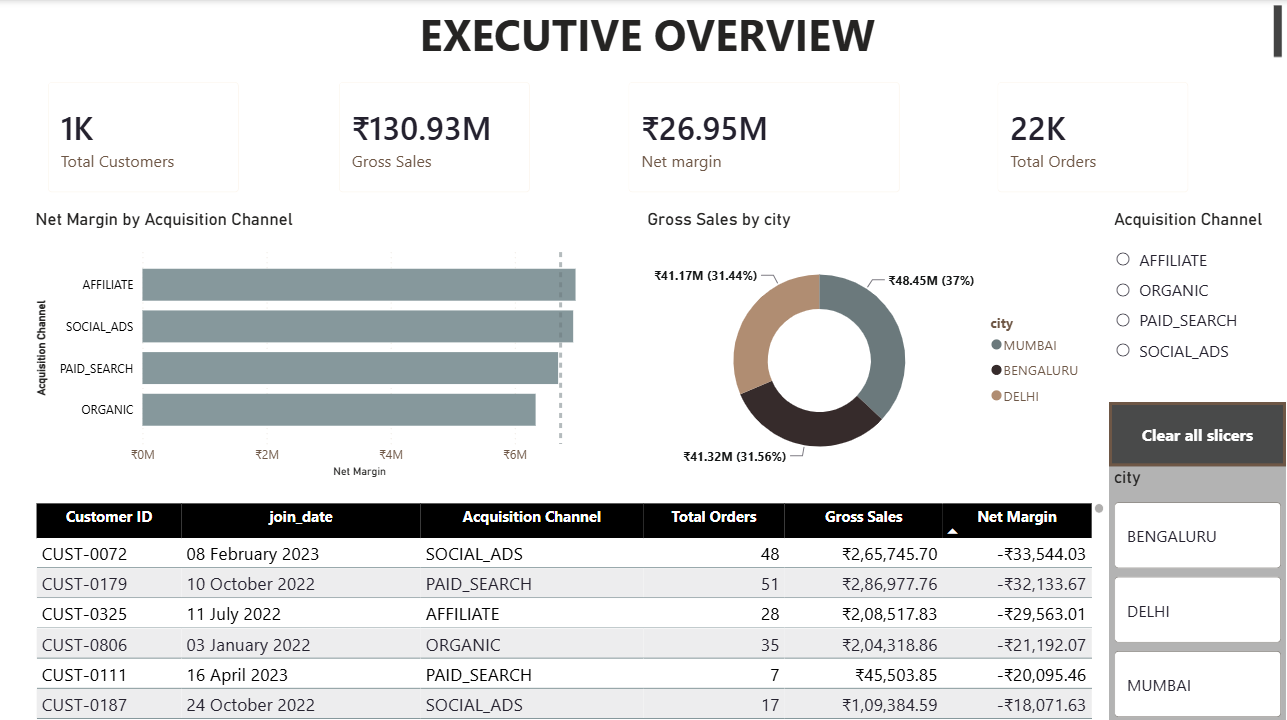

This screenshot's page, from the dashboard's own definition file:
{"tool":"powerbi","page":{"name":"Overview","canvas":[1280,720],"ordinal":0},"visuals":[{"type":"textbox","box":[16,0,1264,64],"z":0},{"type":"cardVisual","fields":{"Data":["Count(mart_customer_360.customer_id)"]},"box":[32,64,224,144],"z":1000},{"type":"cardVisual","fields":{"Data":["Sum(mart_customer_360.gross_sales)"]},"box":[320,64,224,144],"z":2000},{"type":"cardVisual","fields":{"Data":["Sum(mart_customer_360.rounded_true_net_margin)"]},"box":[608,64,304,144],"z":3000},{"type":"cardVisual","fields":{"Data":["Sum(mart_customer_360.total_orders)"]},"box":[976,64,224,144],"z":4000},{"type":"clusteredBarChart","fields":{"Category":["mart_customer_360.acquisition_channel"],"Y":["Sum(mart_customer_360.rounded_true_net_margin)"]},"box":[32,208,560,272],"z":5000},{"type":"donutChart","fields":{"Category":["mart_customer_360.city"],"Y":["Sum(mart_customer_360.gross_sales)"]},"box":[640,208,448,272],"z":6000},{"type":"tableEx","fields":{"Values":["mart_customer_360.customer_id","mart_customer_360.join_date","mart_customer_360.acquisition_channel","Sum(mart_customer_360.total_orders)","Sum(mart_customer_360.gross_sales)","Sum(mart_customer_360.rounded_true_net_margin)"]},"box":[32,496,1072,224],"z":7000},{"type":"advancedSlicerVisual","fields":{"Values":["mart_customer_360.city"]},"box":[1104,464,176,256],"z":8000},{"type":"listSlicer","fields":{"Values":["mart_customer_360.acquisition_channel"]},"box":[1104,208,176,192],"z":9000},{"type":"actionButton","box":[1104,400,176,64],"z":10000}]}

Visuals, with their boxes in screenshot pixels (x1, y1, x2, y2), scaled from the page's 1280x720 canvas onto the 1287x720 screenshot:
textbox: l=16, t=0, r=1286, b=64
cardVisual - Count(mart_customer_360.customer_id): l=32, t=64, r=257, b=208
cardVisual - Sum(mart_customer_360.gross_sales): l=322, t=64, r=547, b=208
cardVisual - Sum(mart_customer_360.rounded_true_net_margin): l=611, t=64, r=917, b=208
cardVisual - Sum(mart_customer_360.total_orders): l=981, t=64, r=1207, b=208
clusteredBarChart - mart_customer_360.acquisition_channel x Sum(mart_customer_360.rounded_true_net_margin): l=32, t=208, r=595, b=480
donutChart - mart_customer_360.city x Sum(mart_customer_360.gross_sales): l=644, t=208, r=1094, b=480
tableEx - mart_customer_360.customer_id x mart_customer_360.join_date: l=32, t=496, r=1110, b=719
advancedSlicerVisual - mart_customer_360.city: l=1110, t=464, r=1286, b=719
listSlicer - mart_customer_360.acquisition_channel: l=1110, t=208, r=1286, b=400
actionButton: l=1110, t=400, r=1286, b=464
